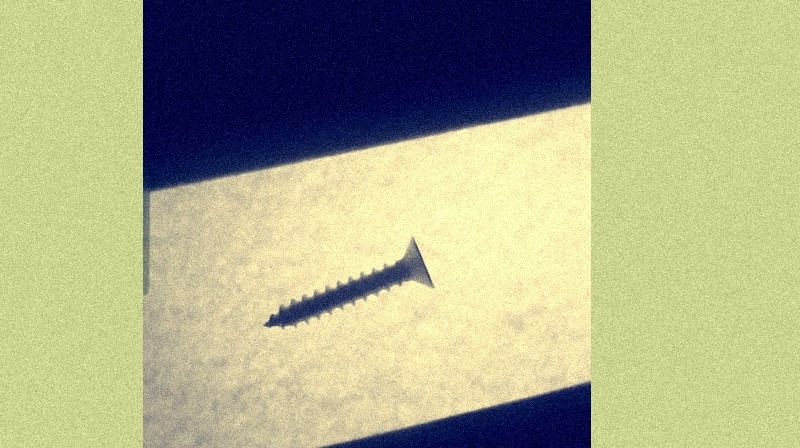S001: (258, 234, 437, 330)
